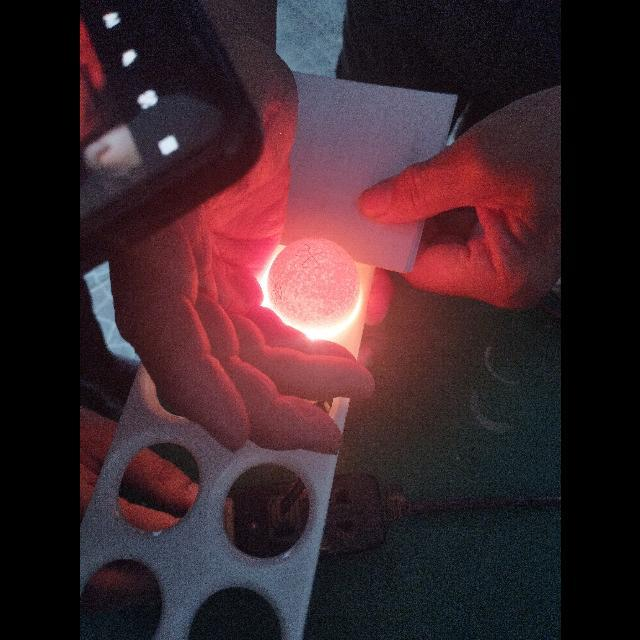Infertile: (274, 246, 346, 322)
